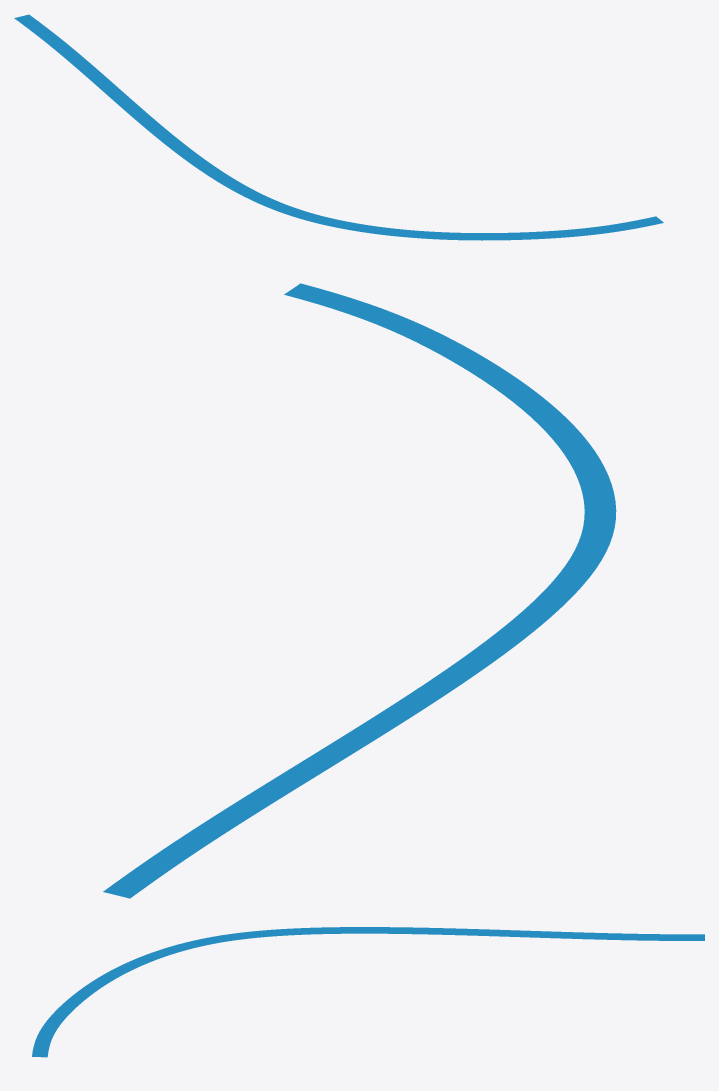
Rendered from guide.glb.
3 views of the same model, one above another, from view 1: azimuth 30°, elevation 25°; view 2: azimuth 150°, elevation 25°; view 3: azimuth 270°, elevation 25° (orthographic). The views are drawn at different scales.
Visible parts, largest first — view 1: static; view 2: static; view 3: static.
Part boxes in pixels (<box>): static: <box>14,14,663,240</box>; static: <box>103,283,616,898</box>; static: <box>32,927,704,1057</box>.
Size of the model in its own units: 7.18 by 0 by 13.99.
